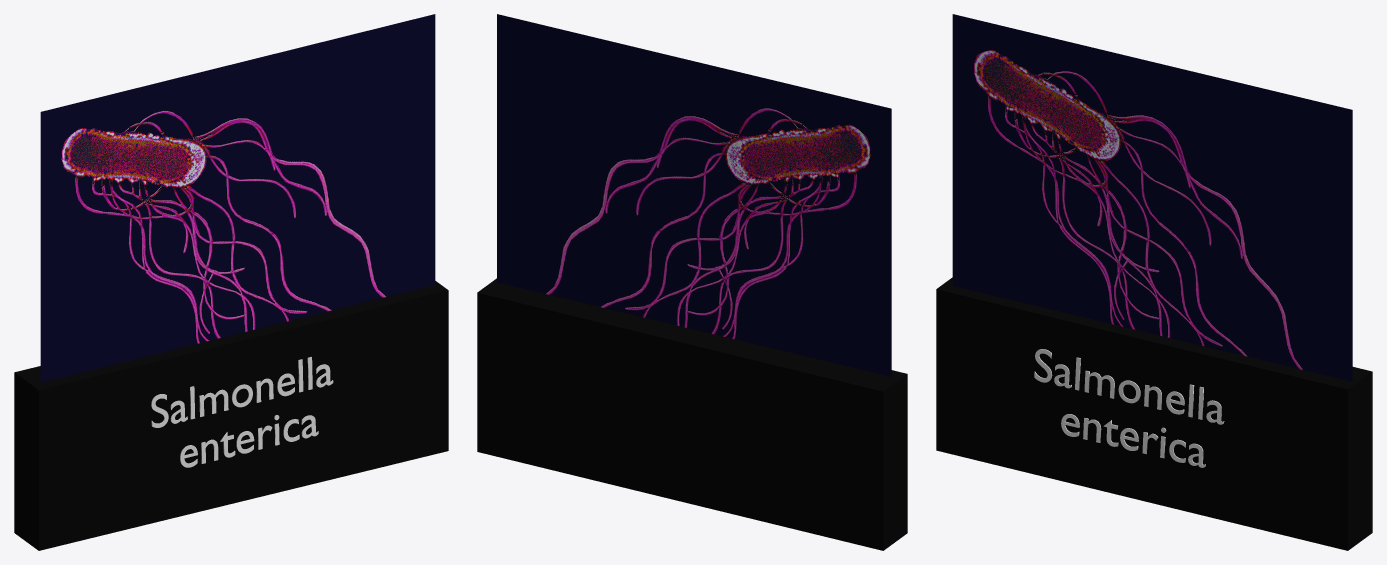
Rendered from salmonella.gltf.
The picture shows the model from 3 angles, left to right: view 1: azimuth 30°, elevation 25°; view 2: azimuth 150°, elevation 25°; view 3: azimuth 330°, elevation 25°; orthographic projection.
Parts seen in each view (by area): view 1: salmonella, Cube.002, Text.002; view 2: salmonella, Cube.002; view 3: salmonella, Cube.002, Text.002.
Part boxes in pixels (x1=…): salmonella: x1=40, y1=14, x2=435, y2=382; Cube.002: x1=14, y1=281, x2=448, y2=550; Text.002: x1=151, y1=357, x2=333, y2=467; salmonella: x1=497, y1=14, x2=891, y2=376; Cube.002: x1=477, y1=278, x2=907, y2=550; salmonella: x1=952, y1=14, x2=1352, y2=381; Cube.002: x1=936, y1=277, x2=1372, y2=550; Text.002: x1=1034, y1=349, x2=1224, y2=467.
Bounding box in the file's own units: 2.04 × 2.05 × 0.2887.
Materials: 2 (1 with a texture image).
